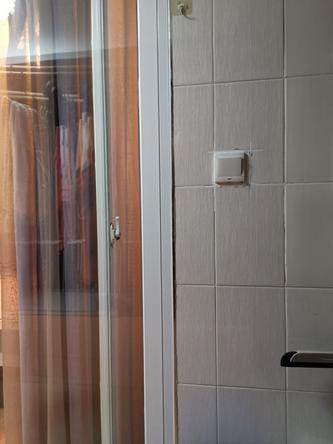switch: (213, 153, 245, 182)
